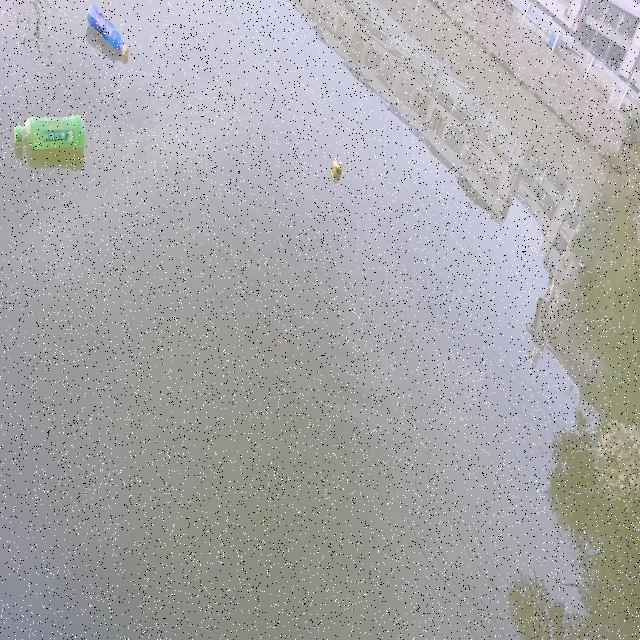Bottle: (11, 109, 88, 155), (85, 3, 129, 59)
Can: (327, 153, 346, 185)
